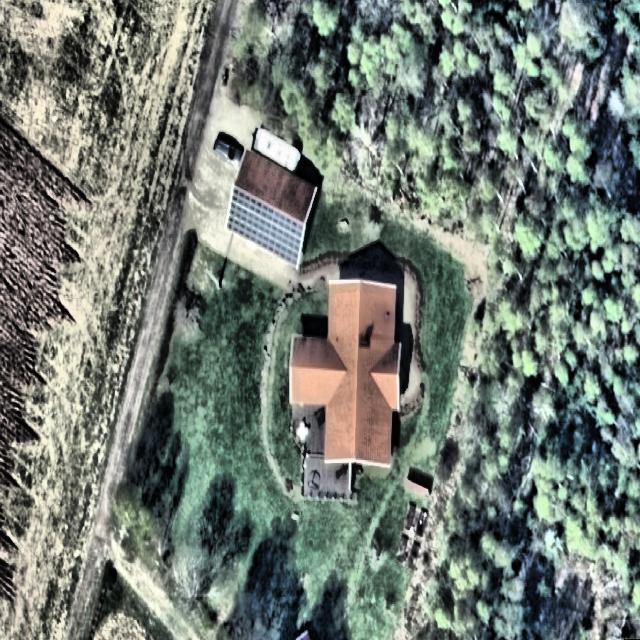roof_pv: (227, 186, 304, 266)
